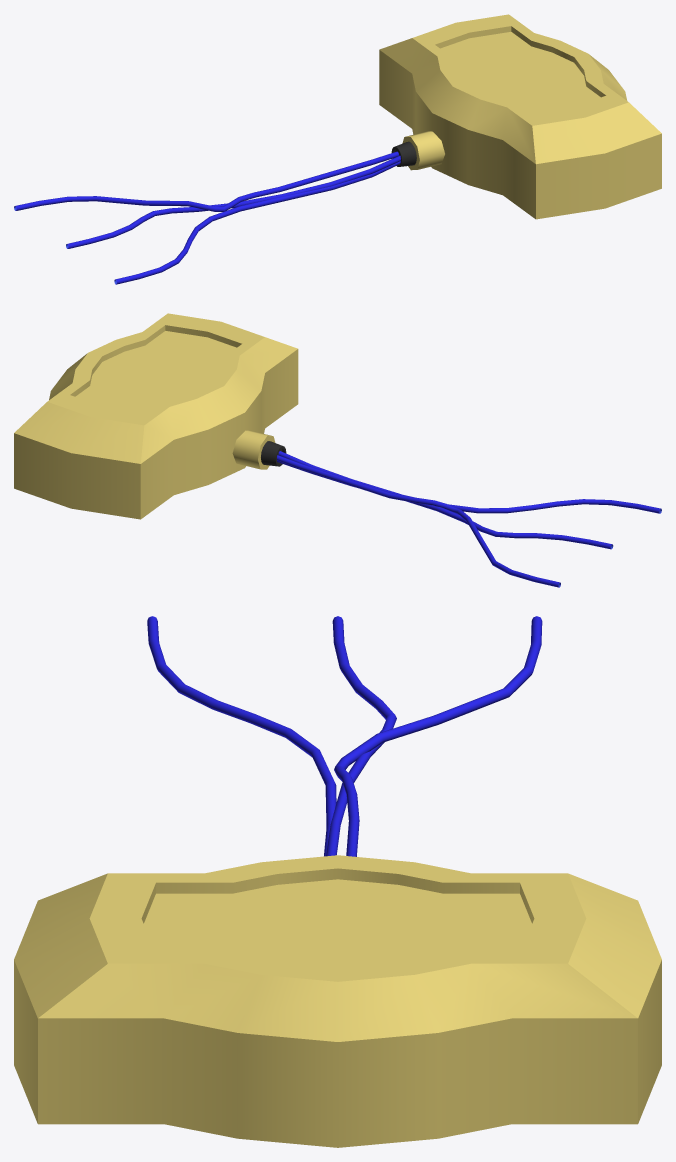
The model's file is POSTOLJE 3.fbx.
3 views of the same model, one above another, from view 1: azimuth 30°, elevation 25°; view 2: azimuth 150°, elevation 25°; view 3: azimuth 270°, elevation 25° (orthographic). The views are drawn at different scales.
Parts seen in each view (by area): view 1: Cylinder; view 2: Cylinder; view 3: Cylinder.
Part boxes in pixels (<box>): Cylinder: <box>14,14,661,284</box>; Cylinder: <box>14,313,661,587</box>; Cylinder: <box>14,616,661,1147</box>.
Size of the model in its own units: 3.66 by 0.4941 by 1.98.
